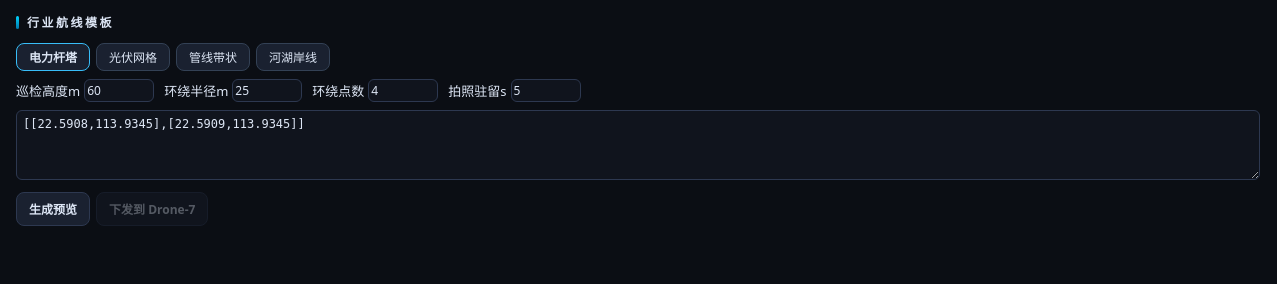
Test: 生成预览的失败与鉴权路径 › 响应体不是 JSON 也不能崩，仍报出状态码
Click the button "生成预览" at (53, 209), box [16,192,90,226]
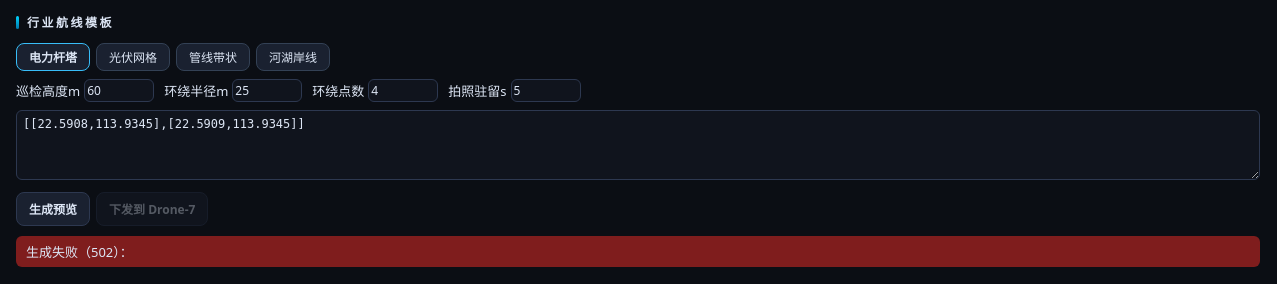
Expected: the text "生成失败（502）：" is shown, [16,236,1260,267]
